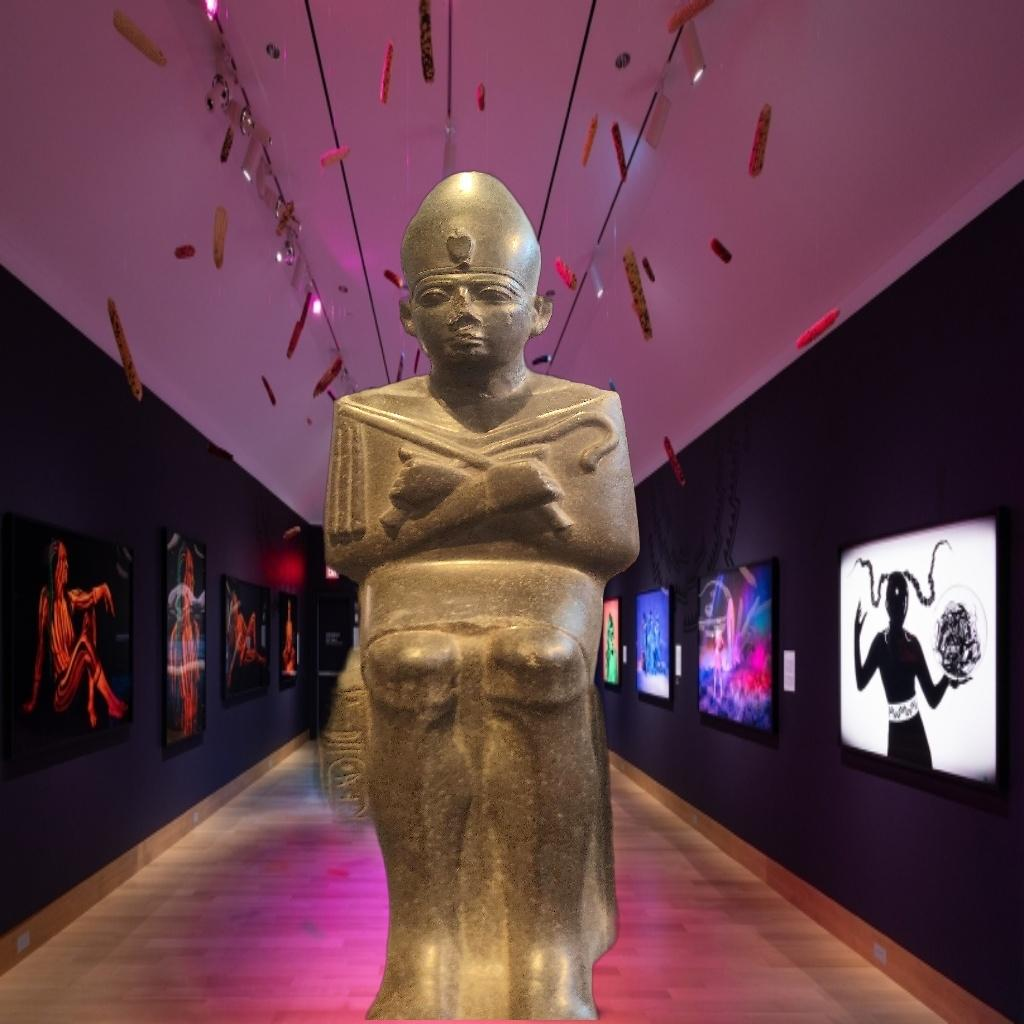Statue of Sobekhotep V: (306, 166, 652, 1020)
